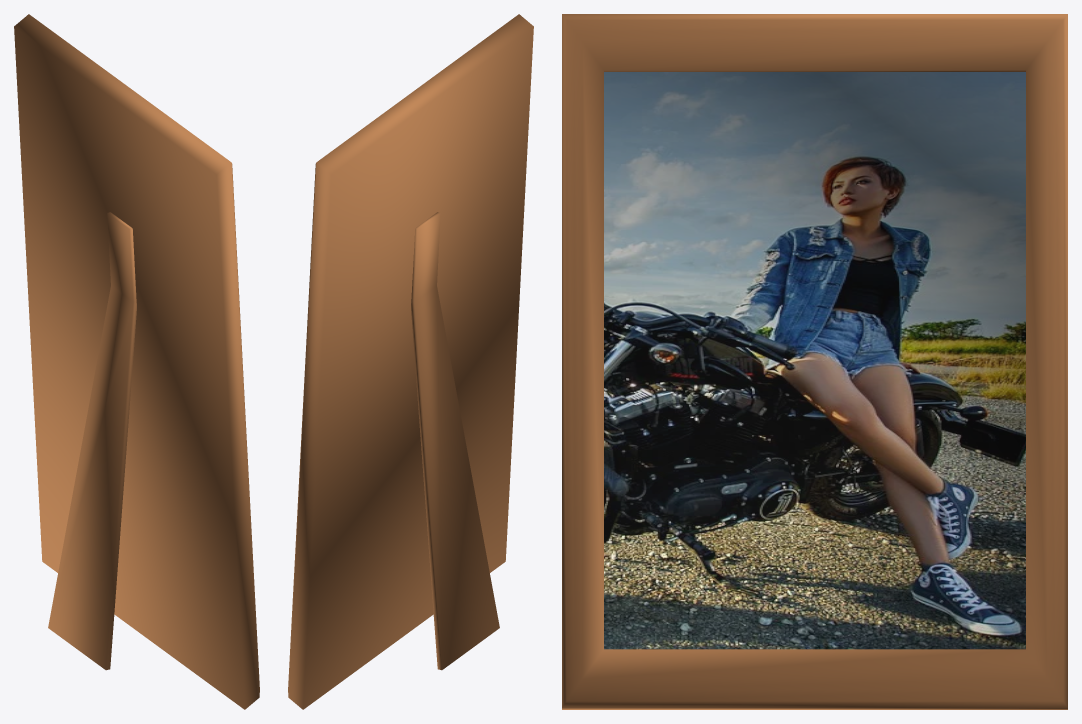
The model's file is porta retratos.fbx.
3 views of the same model, side by side, from view 1: azimuth 30°, elevation 25°; view 2: azimuth 150°, elevation 25°; view 3: azimuth 270°, elevation 25° (orthographic). The views are drawn at different scales.
Visible parts, largest first — view 1: Cube; view 2: Cube; view 3: Cube.
Boxes of the visible parts, x1,y1,x2,y2 form: Cube: [14, 14, 259, 709]; Cube: [288, 14, 533, 709]; Cube: [562, 14, 1067, 709].
Size of the model in its own units: 5 by 30 by 20.
